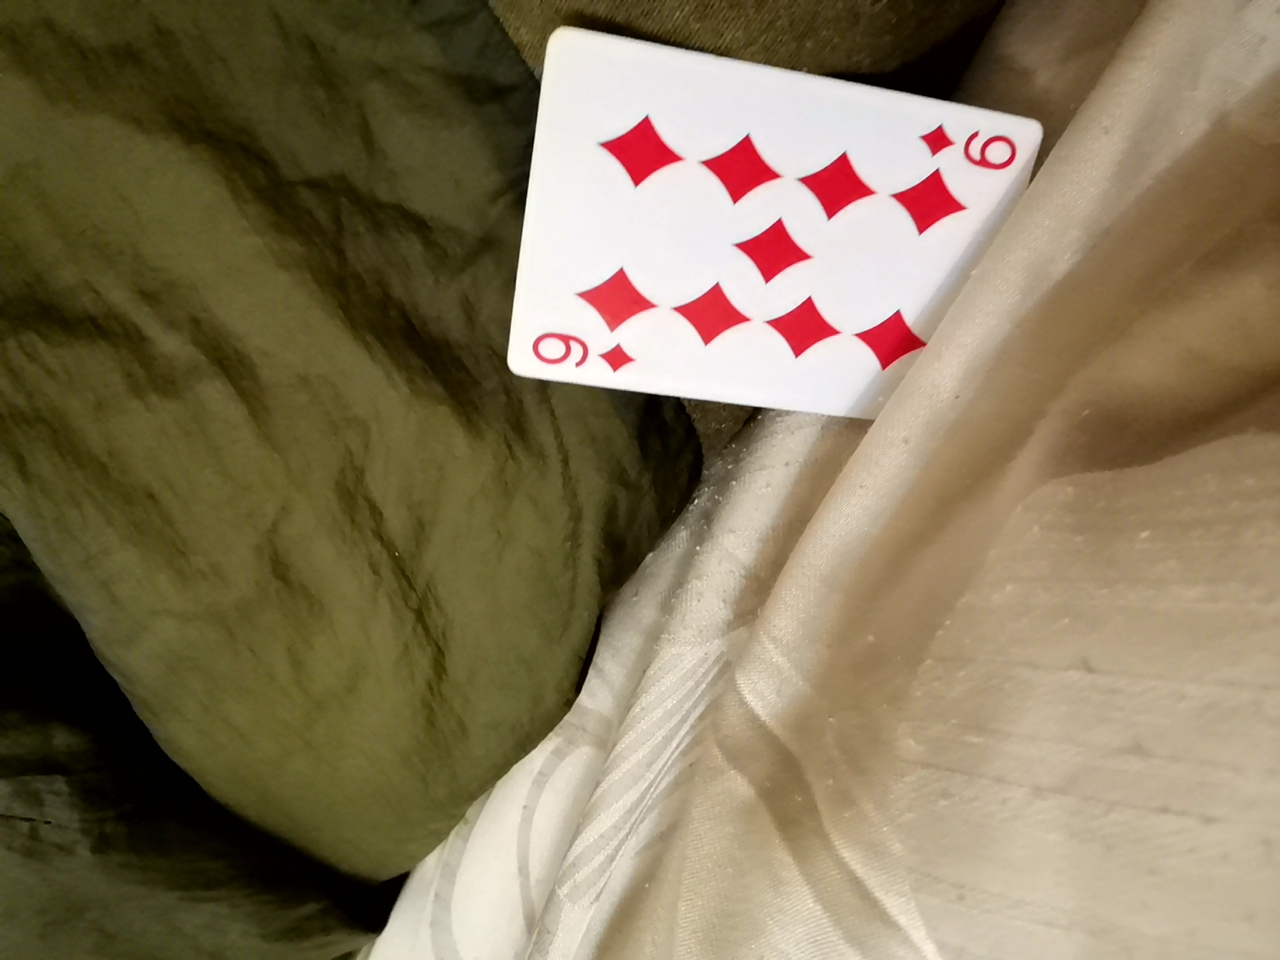fk 9: (479, 63, 999, 452)
